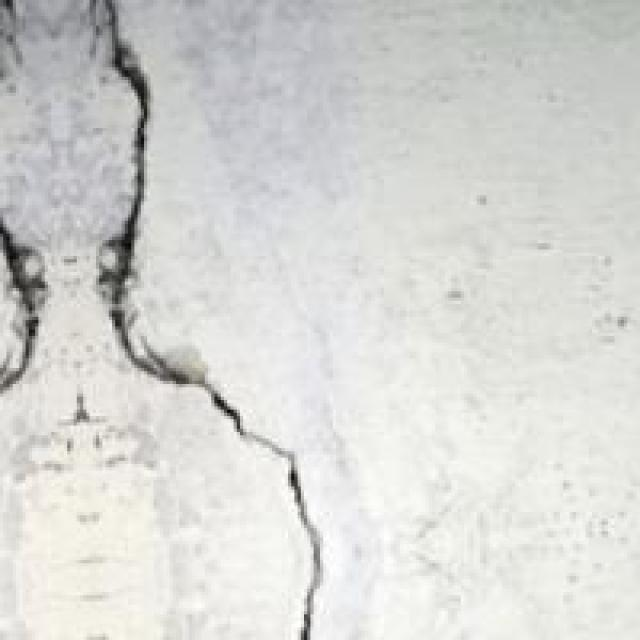crack: (74, 0, 326, 640), (0, 210, 58, 422)
